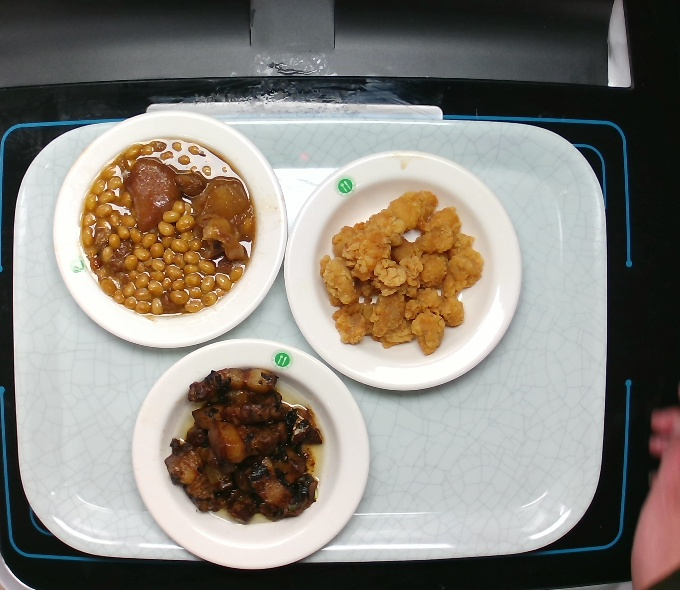wcq-GanCaiRou: (160, 364, 328, 527)
wcq-HuangDouZhuJiao: (73, 131, 265, 320)
wcq-JiMiHua: (314, 186, 488, 361)
